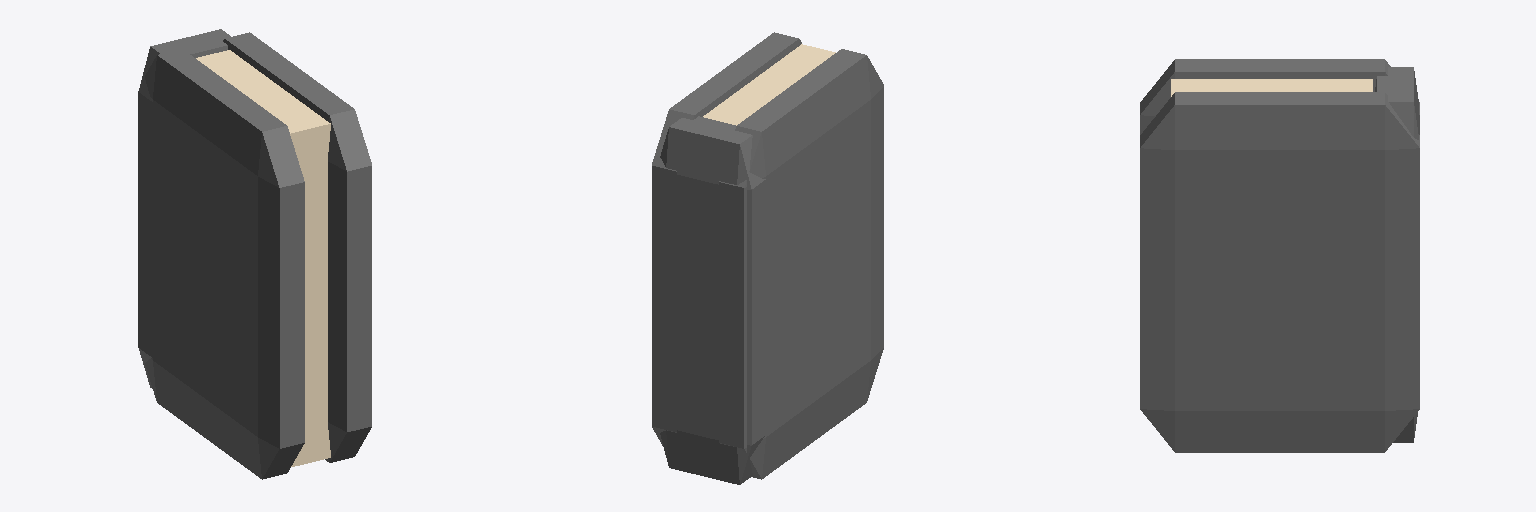
Rendered from Book5.obj.
The picture shows the model from 3 angles: view 1: azimuth 30°, elevation 25°; view 2: azimuth 150°, elevation 25°; view 3: azimuth 270°, elevation 25°; orthographic projection.
Visible parts, largest first — view 1: mergedBlocks; view 2: mergedBlocks; view 3: mergedBlocks.
Boxes of the visible parts, x1,y1,x2,y2 form: mergedBlocks: [138, 29, 371, 479]; mergedBlocks: [652, 32, 883, 484]; mergedBlocks: [1140, 59, 1419, 452].
Bounding box in the file's own units: 0.09 × 0.2952 × 0.2155.